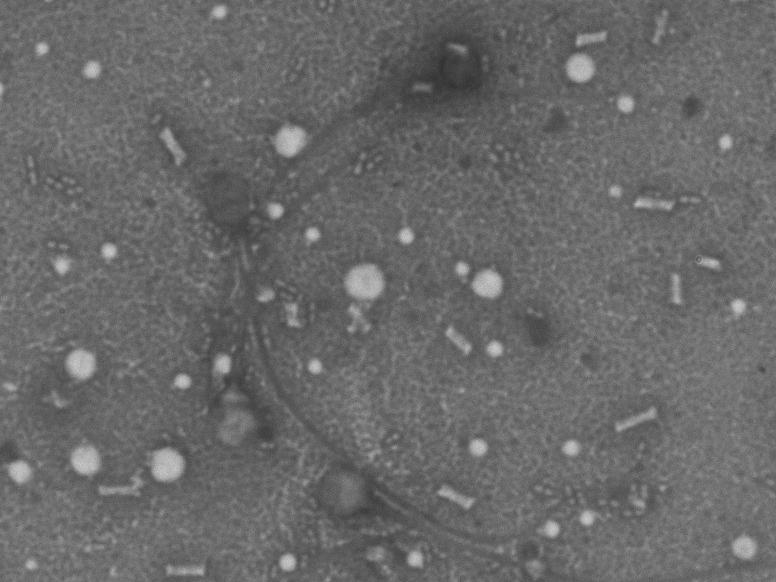Abnormal: (173, 155, 588, 569)
